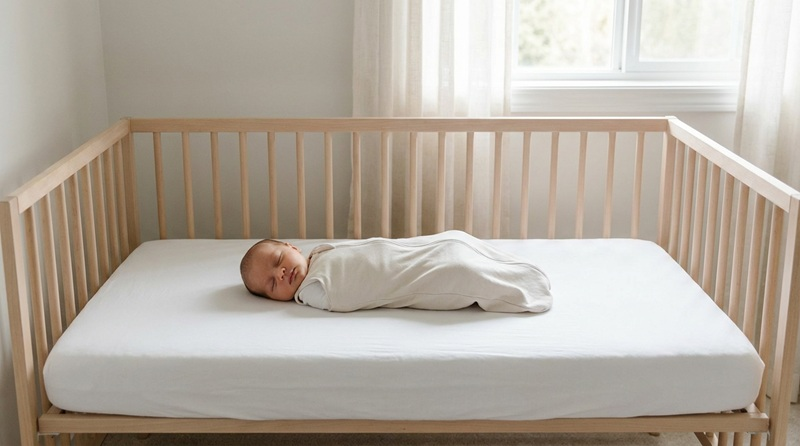baby: (240, 231, 551, 311)
crib: (0, 117, 799, 444)
